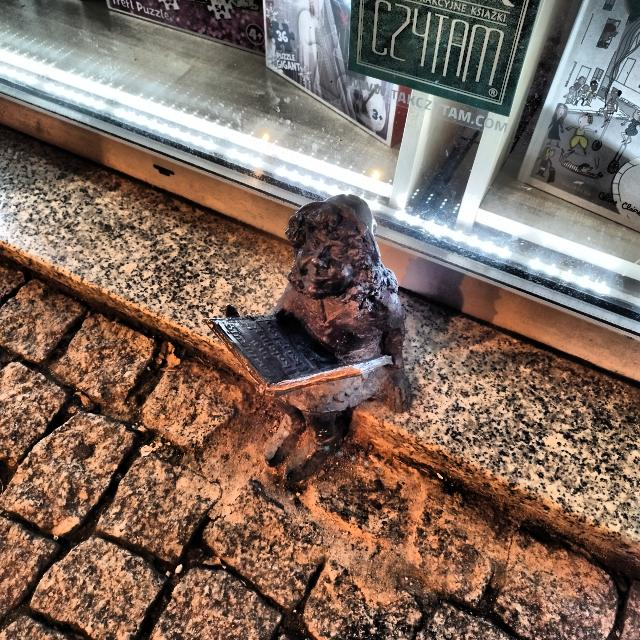Ksiegarka: (194, 188, 425, 503)
